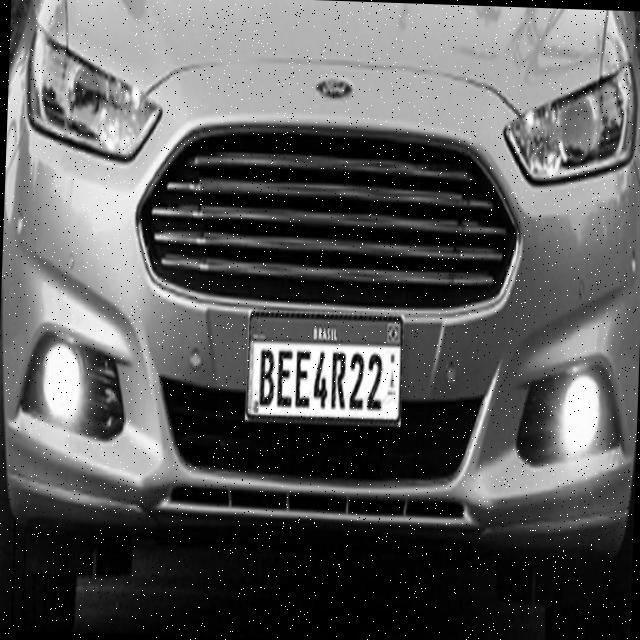placa_mercosul: (247, 313, 402, 426)
